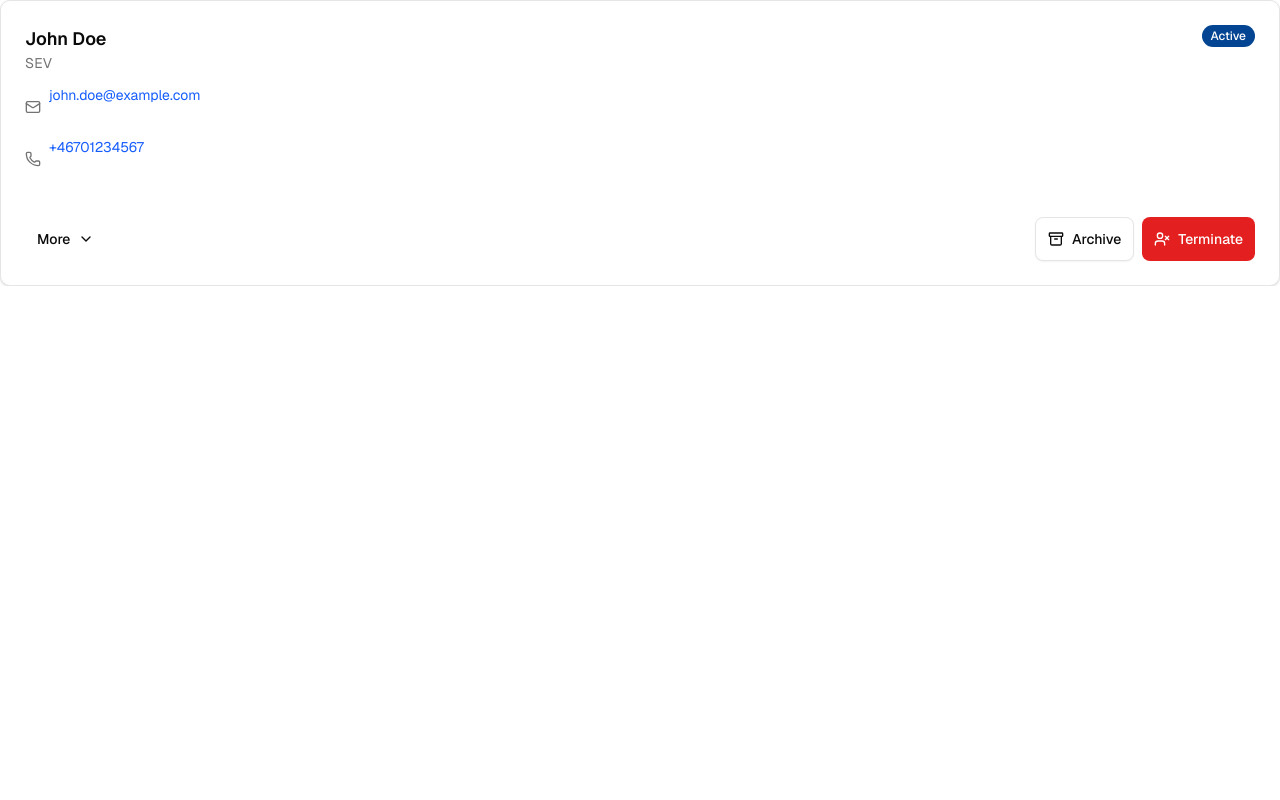
Test: EmployeeCard - Expansion Behavior › AC1: Expansion Behavior Tests › should expand card to show all fields when "More" button is clicked
Click the button with aria-label "Expand details": (66, 239) [25,217,106,261]
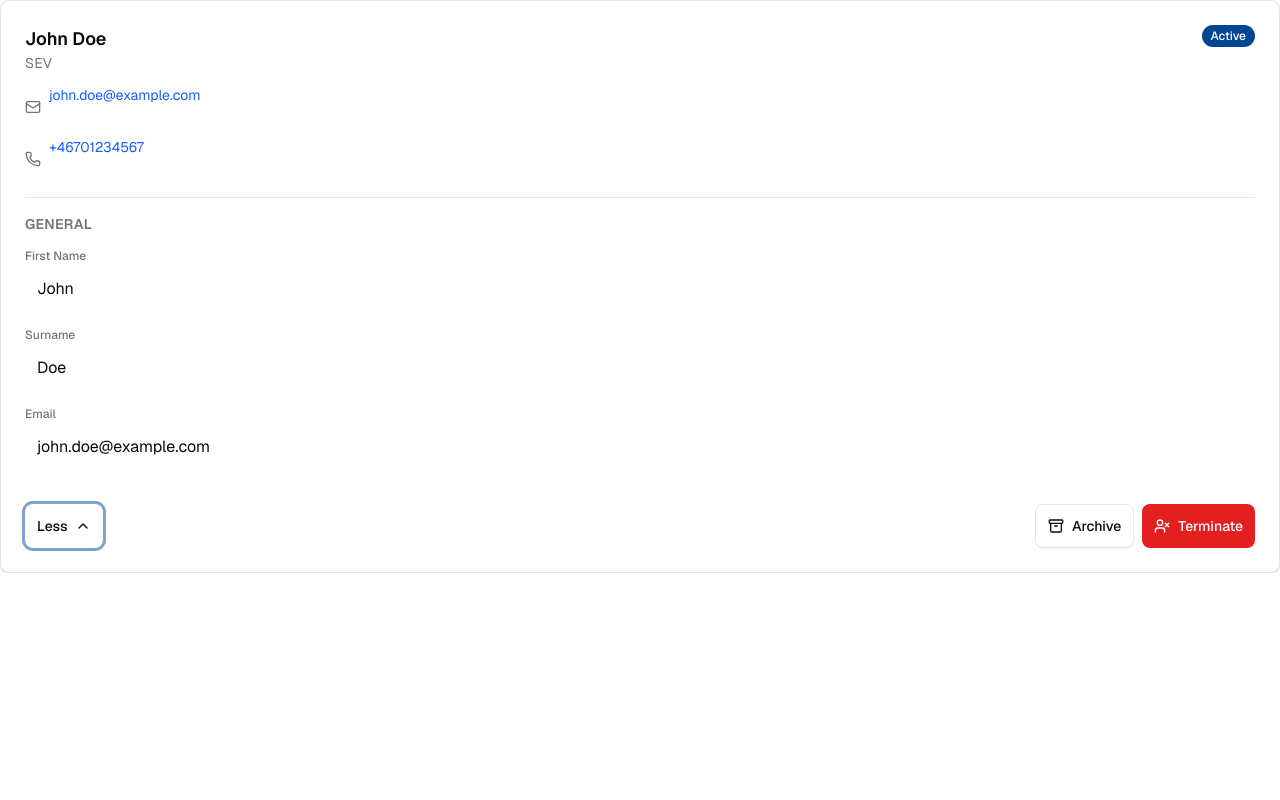
expect the button with aria-label "Collapse details" is shown: met, box [25,504,104,548]
expect the text "First Name" is shown: met, box [25,248,86,264]
expect the text "Surname" is shown: met, box [25,327,75,343]
